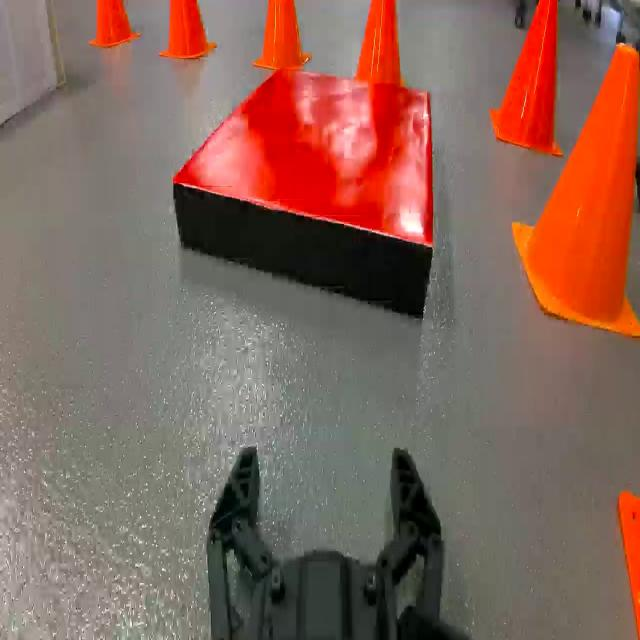cone: (513, 43, 640, 336), (491, 0, 564, 151), (350, 0, 411, 83), (255, 0, 311, 71), (160, 0, 214, 64), (95, 0, 137, 52)
red: (175, 66, 435, 325)
storage cube: (0, 0, 67, 121)
